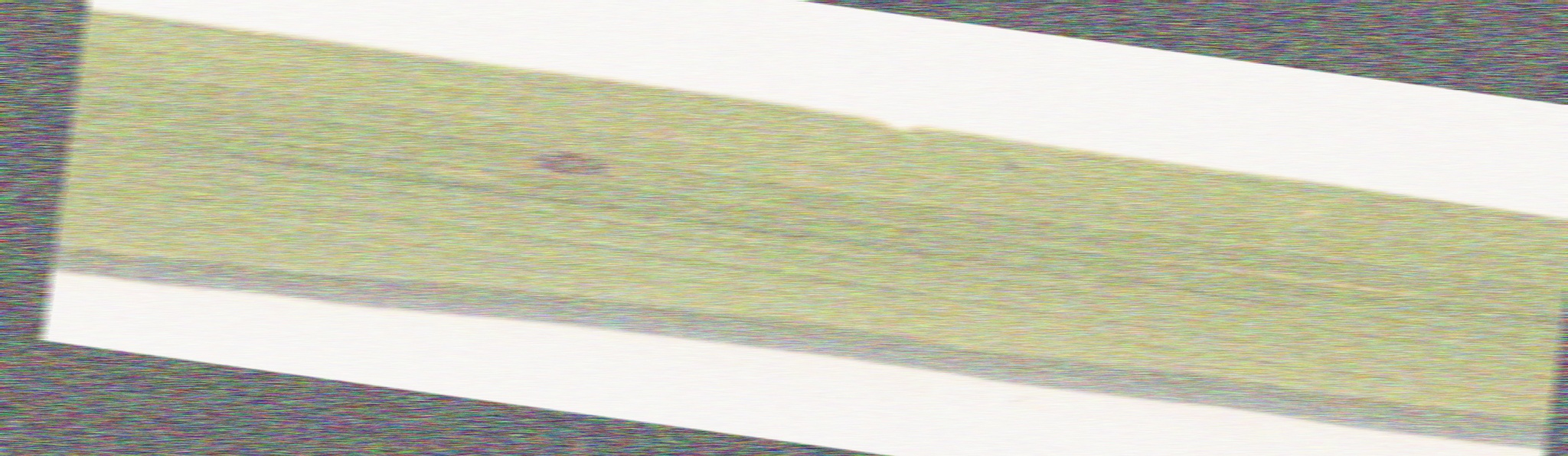Bacterial_Leaf_Blight: (505, 121, 627, 187)
